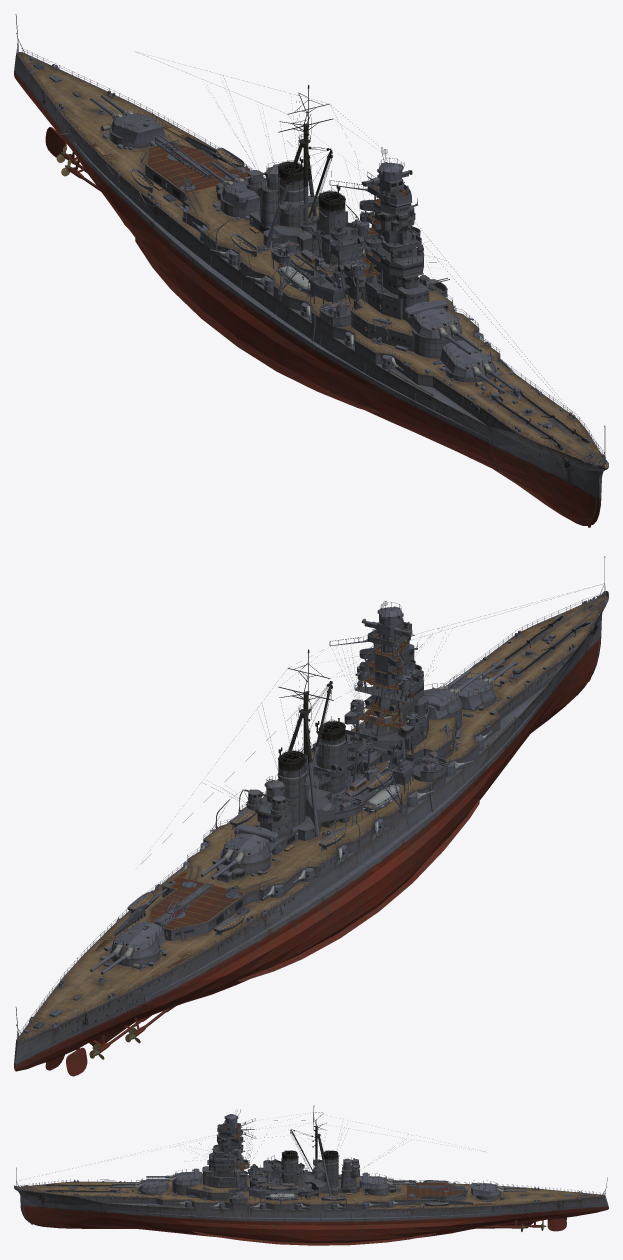
File: kongo.glb
3 views of the same model, one above another, from view 1: azimuth 30°, elevation 25°; view 2: azimuth 150°, elevation 25°; view 3: azimuth 270°, elevation 25° (orthographic). The views are drawn at different scales.
Parts seen in each view (by area): view 1: MidBackShape, MidFrontShape, BowShape, SternShape, MidFront_DeckHouseShape, MidBack_DeckHouseShape, MidBack_patch_SternShape, JGM050Shape, JGM049Shape, JGM049Shape1, MidBack_wireShape, Bow_patch_MidFrontShape (+5 smaller); view 2: MidBackShape, SternShape, MidFrontShape, MidFront_DeckHouseShape, BowShape, MidBack_DeckHouseShape, MidBack_patch_SternShape, JGM050Shape1, JGM049Shape1, MidBack_wireShape, MidFront_wireShape, JGM049Shape (+5 smaller); view 3: MidBackShape, MidFrontShape, SternShape, BowShape, MidFront_DeckHouseShape, MidBack_DeckHouseShape, MidBack_patch_SternShape, JGM050Shape, JGM050Shape1, MidFront_patch_MidBackShape, JGM049Shape1, JGM049Shape (+6 smaller).
Boxes of the visible parts, x1,y1,x2,y2 form: MidBackShape: [132, 89, 362, 369]; MidFrontShape: [284, 248, 514, 449]; BowShape: [452, 378, 608, 527]; SternShape: [14, 14, 230, 220]; MidFront_DeckHouseShape: [308, 166, 455, 351]; MidBack_DeckHouseShape: [270, 215, 364, 279]; MidBack_patch_SternShape: [118, 150, 233, 238]; JGM050Shape: [404, 299, 481, 354]; JGM049Shape: [440, 337, 515, 393]; JGM049Shape1: [90, 94, 165, 144]; MidBack_wireShape: [142, 94, 361, 295]; Bow_patch_MidFrontShape: [439, 371, 520, 455]; MidBackShape: [149, 653, 411, 984]; SternShape: [14, 894, 225, 1076]; MidFrontShape: [398, 680, 521, 875]; MidFront_DeckHouseShape: [311, 622, 457, 793]; BowShape: [459, 558, 608, 745]; MidBack_DeckHouseShape: [306, 729, 378, 829]; MidBack_patch_SternShape: [122, 894, 247, 994]; JGM050Shape1: [200, 824, 278, 879]; JGM049Shape1: [90, 918, 165, 974]; MidBack_wireShape: [147, 673, 395, 924]; MidFront_wireShape: [329, 634, 511, 797]; JGM049Shape: [443, 659, 515, 708]; MidBackShape: [269, 1107, 437, 1245]; MidFrontShape: [138, 1171, 269, 1243]; SternShape: [429, 1177, 608, 1233]; BowShape: [14, 1168, 131, 1228]; MidFront_DeckHouseShape: [186, 1120, 269, 1201]; MidBack_DeckHouseShape: [263, 1160, 327, 1200]; MidBack_patch_SternShape: [426, 1182, 451, 1235]; JGM050Shape: [146, 1168, 202, 1185]; JGM050Shape1: [359, 1172, 415, 1189]; MidFront_patch_MidBackShape: [269, 1181, 280, 1244]; JGM049Shape1: [471, 1180, 526, 1196]; JGM049Shape: [112, 1178, 168, 1192].
Bounding box in the file's own units: 19.02 × 31.13 × 136.
66 materials, 66 textured.
